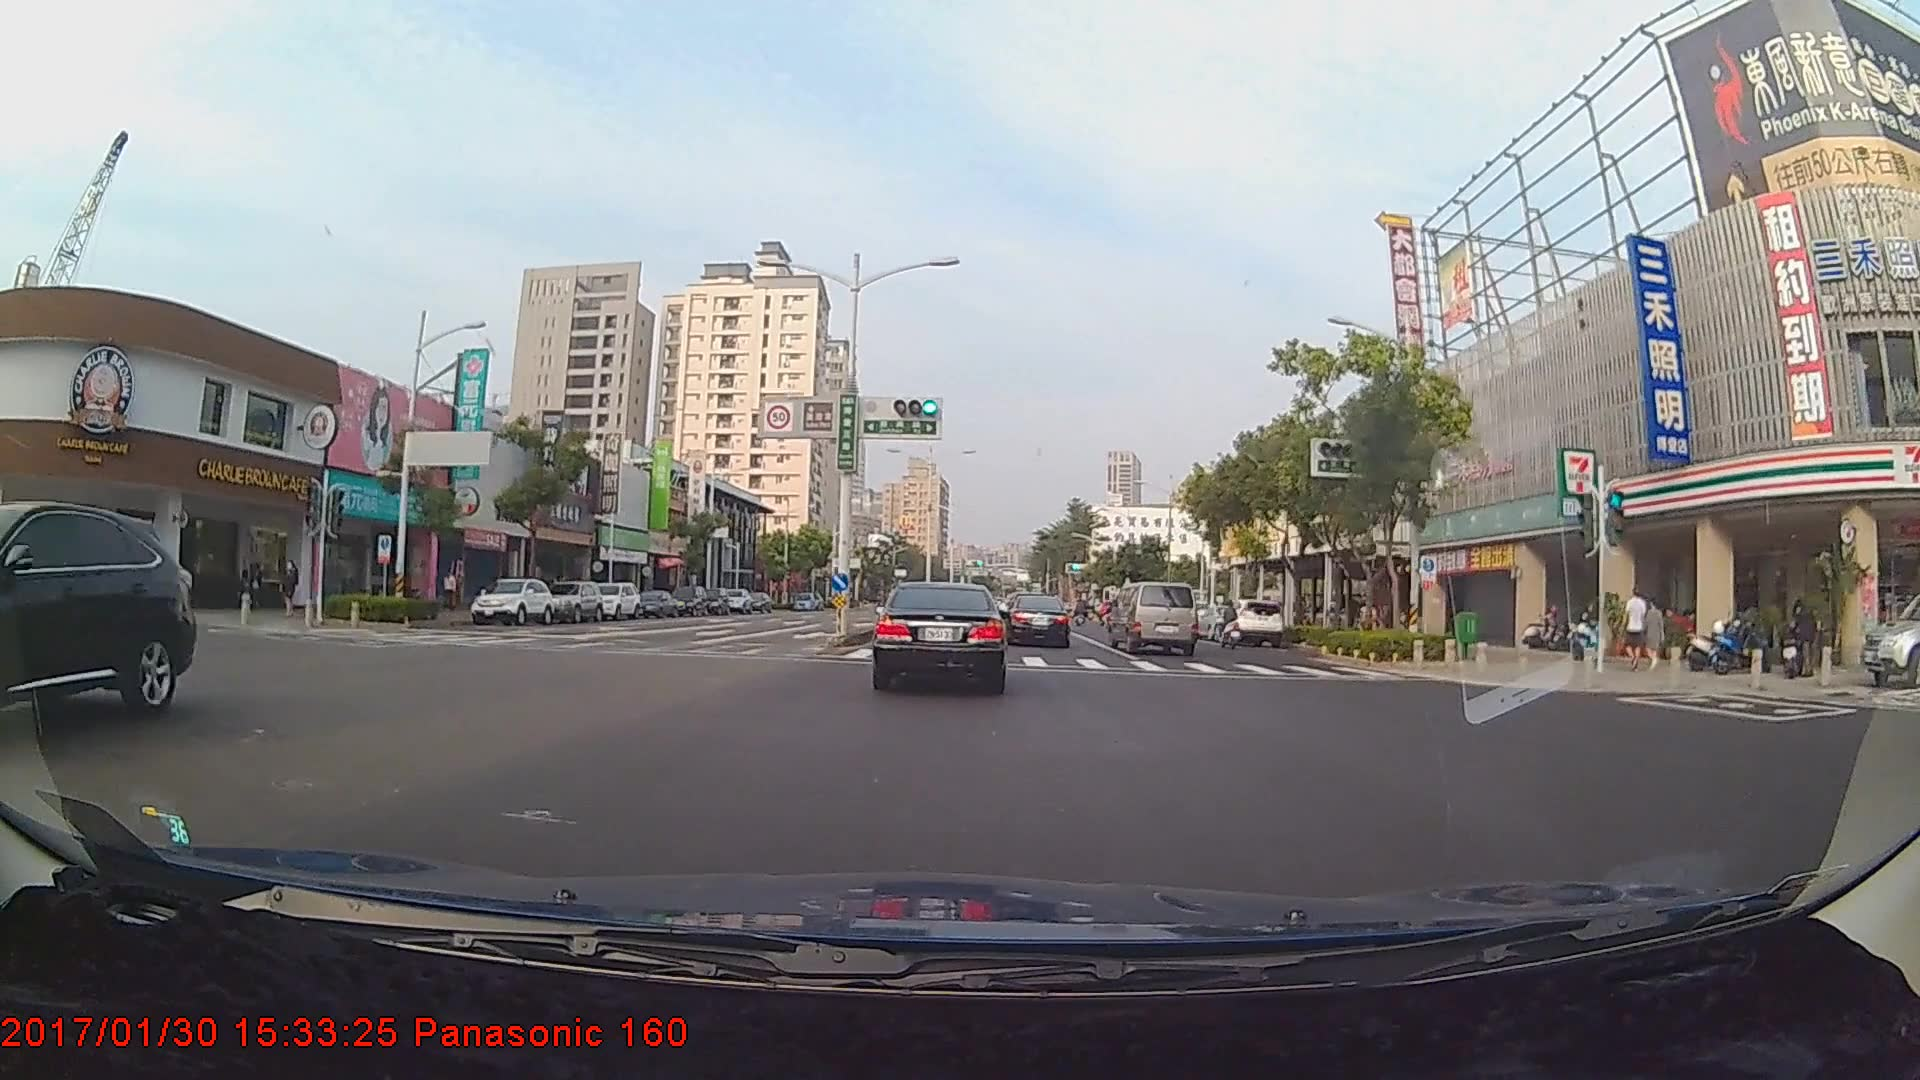pedestrian: (1617, 582, 1646, 674), (1642, 596, 1667, 672), (282, 561, 302, 621), (441, 570, 461, 615)
rider: (1211, 597, 1244, 649)
vehicle: (0, 506, 194, 737), (873, 579, 1006, 693), (1108, 581, 1197, 656), (466, 574, 556, 624), (1003, 594, 1072, 648), (1216, 595, 1284, 645), (542, 580, 602, 623), (589, 581, 643, 623), (633, 590, 676, 618)
